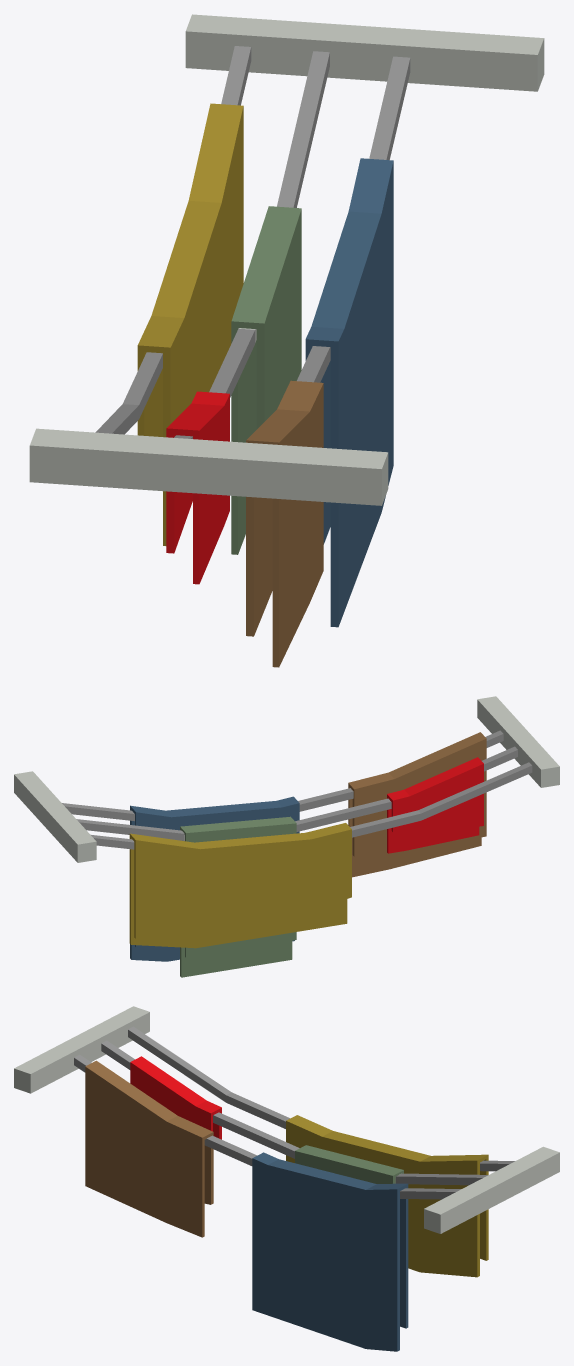
File: Building Clothesline 1.fbx
3 renders of one model, top to bottom at view 1: azimuth 30°, elevation 25°; view 2: azimuth 150°, elevation 25°; view 3: azimuth 270°, elevation 25°, orthographic. The views are drawn at different scales.
Parts seen in each view (by area): view 1: Building Clothesline 1; view 2: Building Clothesline 1; view 3: Building Clothesline 1.
Part boxes in pixels (x1,y1,x2,y2): Building Clothesline 1: (29, 14, 544, 667); Building Clothesline 1: (14, 696, 559, 977); Building Clothesline 1: (14, 1006, 559, 1351).
Size of the model in its own units: 290 by 322 by 127.
